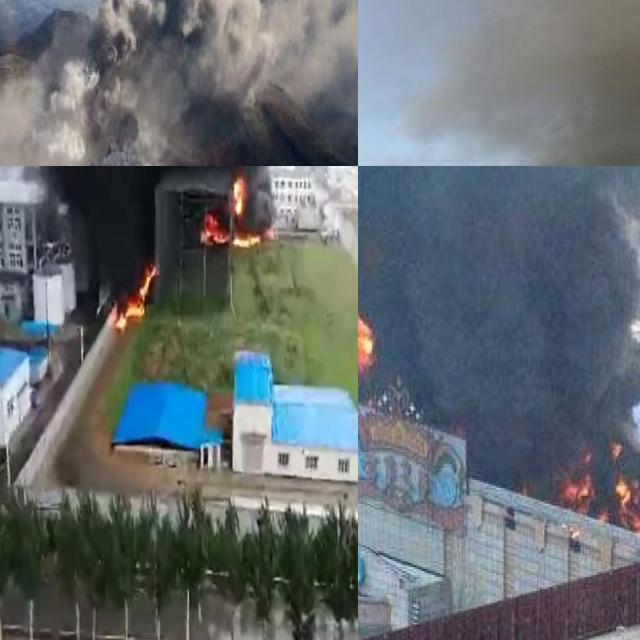fire: (562, 446, 640, 545), (112, 264, 155, 328), (358, 307, 374, 368), (202, 212, 224, 245), (234, 228, 262, 250), (232, 176, 244, 212)
smoke: (358, 166, 640, 491), (0, 0, 358, 166), (1, 166, 300, 305), (419, 0, 640, 166)
